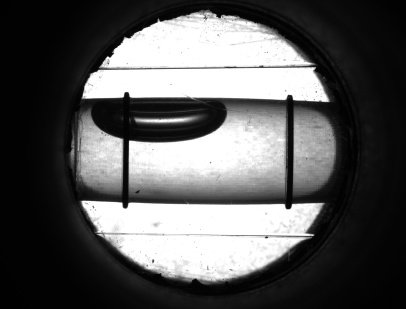line: (280, 111, 299, 190), (117, 146, 134, 188)
